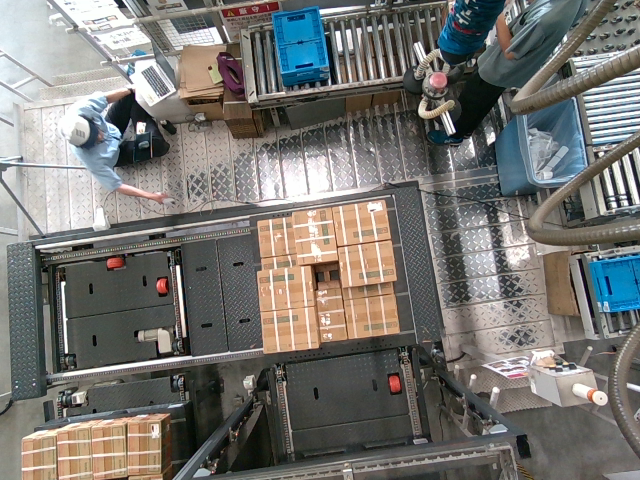box: (291, 209, 338, 262), (257, 268, 314, 309), (260, 311, 317, 352), (339, 245, 396, 286), (334, 202, 391, 243), (344, 299, 401, 340)
